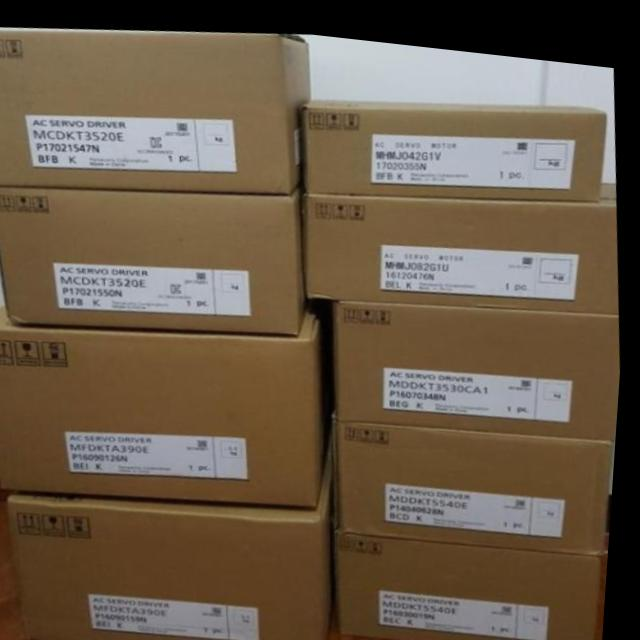box: (0, 301, 330, 498), (13, 463, 343, 640), (0, 27, 312, 188), (0, 176, 309, 328), (306, 171, 622, 296), (338, 292, 624, 425), (337, 412, 617, 540), (341, 524, 606, 640), (300, 89, 606, 188)
